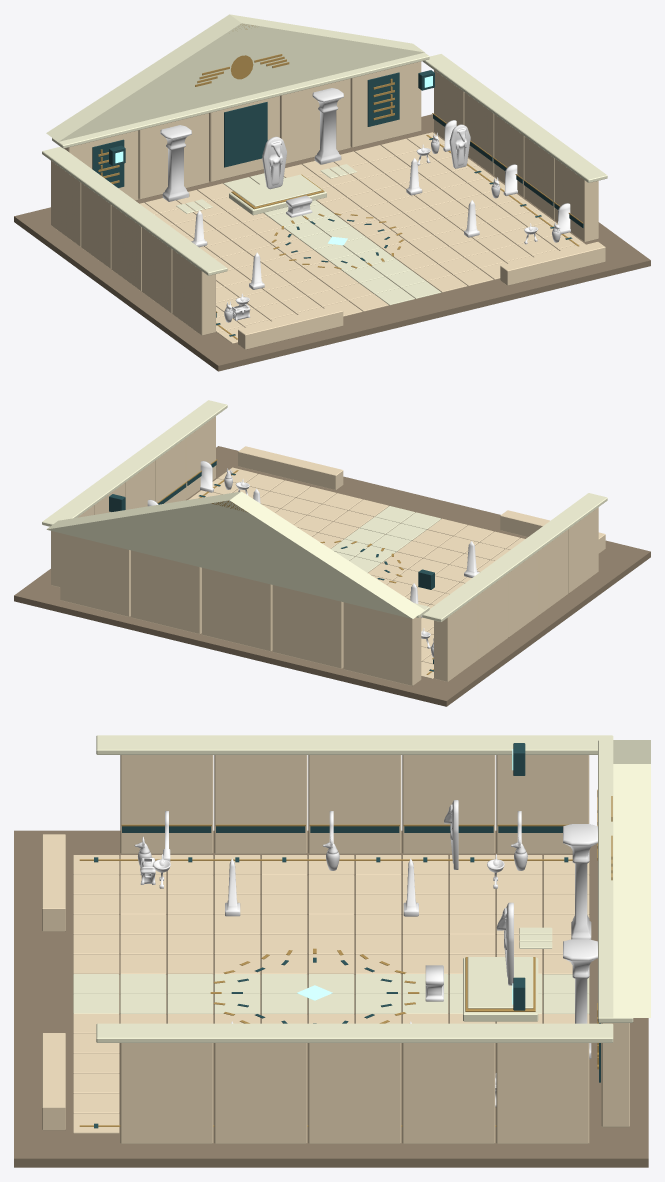
Rendered from mummy_arena_c_painted.glb.
3 renders of one model, top to bottom at view 1: azimuth 30°, elevation 25°; view 2: azimuth 150°, elevation 25°; view 3: azimuth 270°, elevation 25°, orthographic. The views are drawn at different scales.
Visible parts, largest first — view 1: MummyTombGeometry; view 2: MummyTombGeometry; view 3: MummyTombGeometry.
Boxes of the visible parts, x1,y1,x2,y2 form: MummyTombGeometry: [14, 14, 650, 371]; MummyTombGeometry: [14, 400, 650, 706]; MummyTombGeometry: [14, 735, 650, 1167].
Size of the model in its own units: 33 by 11.25 by 27.1.
8 materials, 4 textured.
